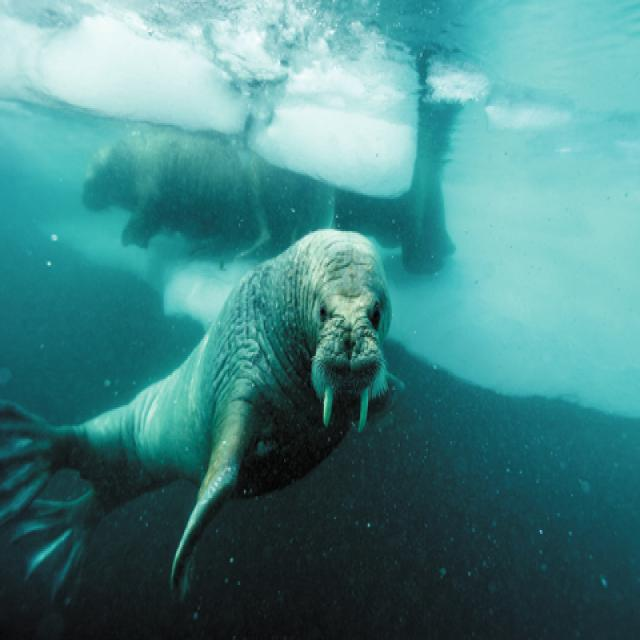walrus: (32, 186, 448, 567)
